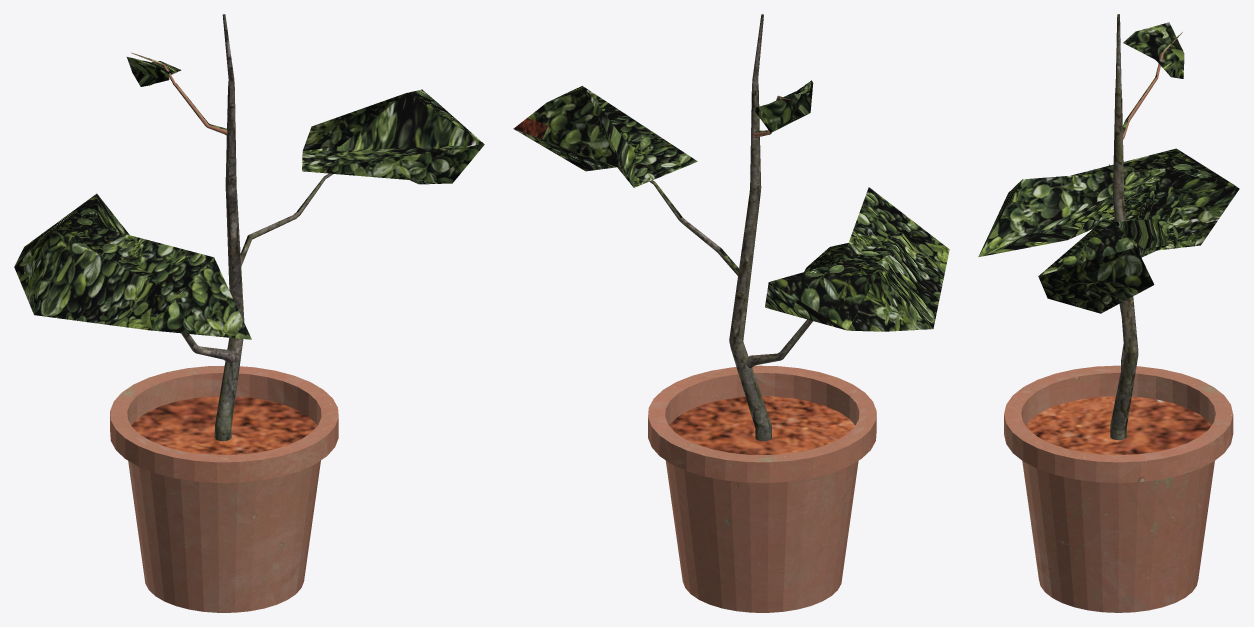
The model's file is Plant1.fbx.
3 renders of one model, left to right at view 1: azimuth 30°, elevation 25°; view 2: azimuth 150°, elevation 25°; view 3: azimuth 270°, elevation 25°, orthographic.
Visible parts, largest first — view 1: Cylinder.002; view 2: Cylinder.002; view 3: Cylinder.002.
Part boxes in pixels (left/top/right/bottom): Cylinder.002: left=14, top=14, right=484, bottom=612; Cylinder.002: left=513, top=14, right=949, bottom=612; Cylinder.002: left=978, top=14, right=1239, bottom=612.
Size of the model in its own units: 0.9186 by 0.5053 by 1.2.
